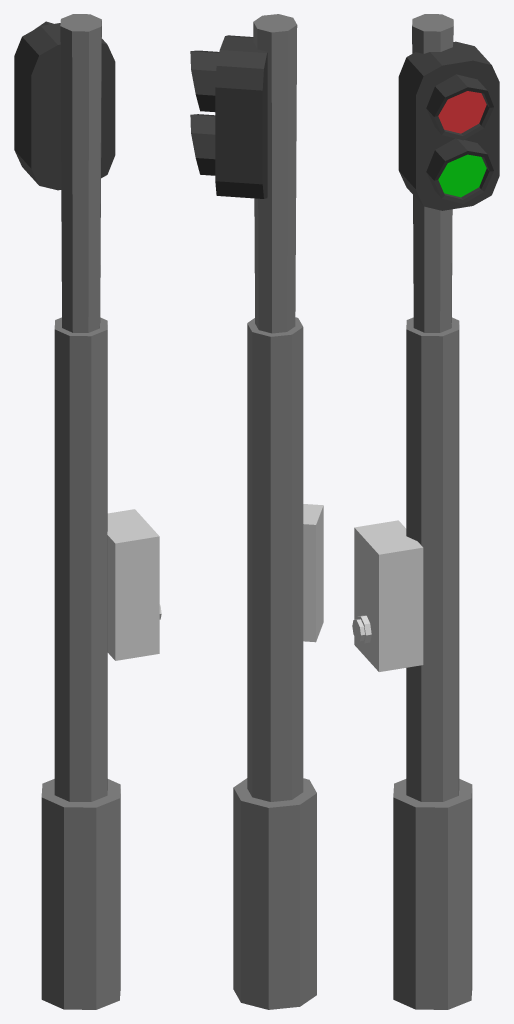
File: Traffic Light1.fbx
3 views of the same model, side by side, from view 1: azimuth 90°, elevation 25°; view 2: azimuth 150°, elevation 25°; view 3: azimuth 270°, elevation 25° (orthographic).
Parts seen in each view (by area): view 1: Traffic_Light1; view 2: Traffic_Light1; view 3: Traffic_Light1.
Part boxes in pixels (left/top/right/bottom): Traffic_Light1: left=14, top=14, right=161, bottom=1009; Traffic_Light1: left=190, top=14, right=323, bottom=1009; Traffic_Light1: left=352, top=14, right=499, bottom=1009.
Bounding box in the file's own units: 26.05 × 229 × 31.56.
